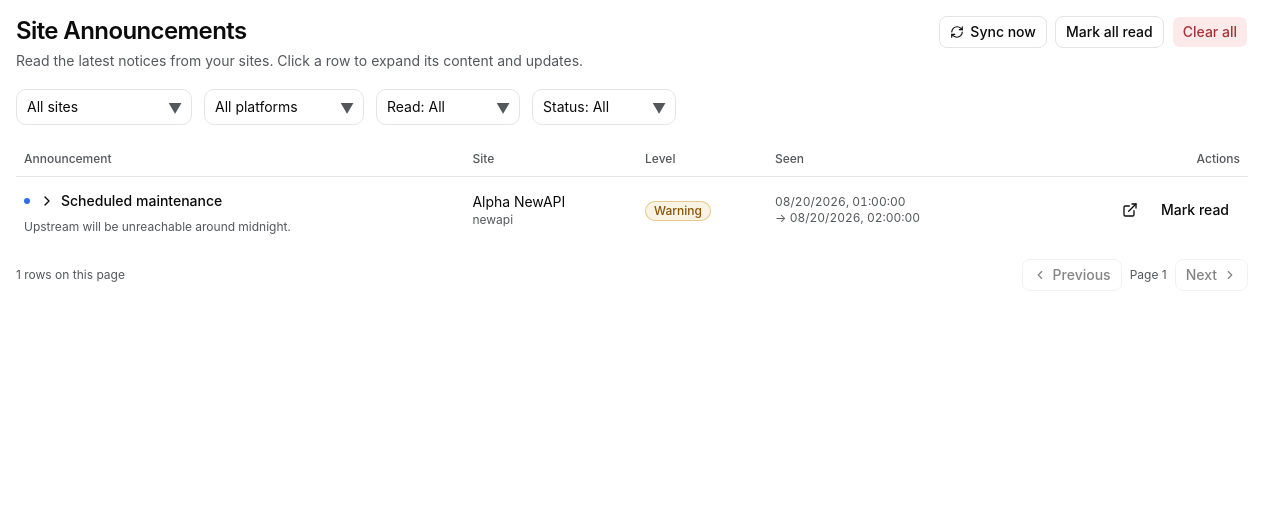
Test: SiteAnnouncementsPage — list rendering › shows history failures with a retry action
What coordinates should you click on to do the following:
click the button "Scheduled maintenance"
I would click on:
 (131, 201)
Its box is [38,185,223,217].
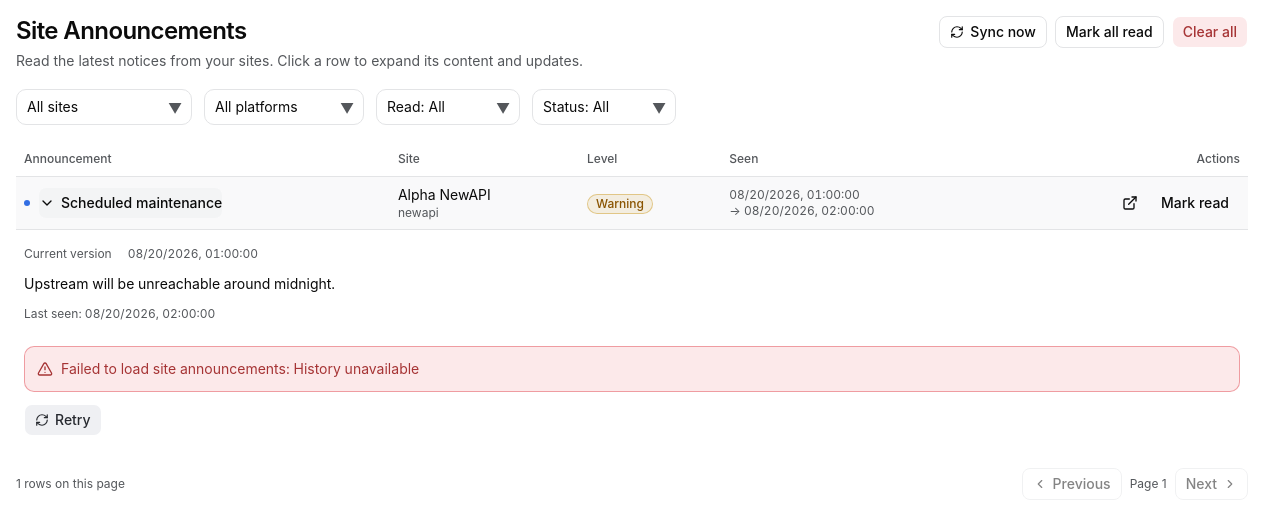
expect the text "Failed to load site announcements: History unavailable" is shown: met, box [61,359,419,379]
